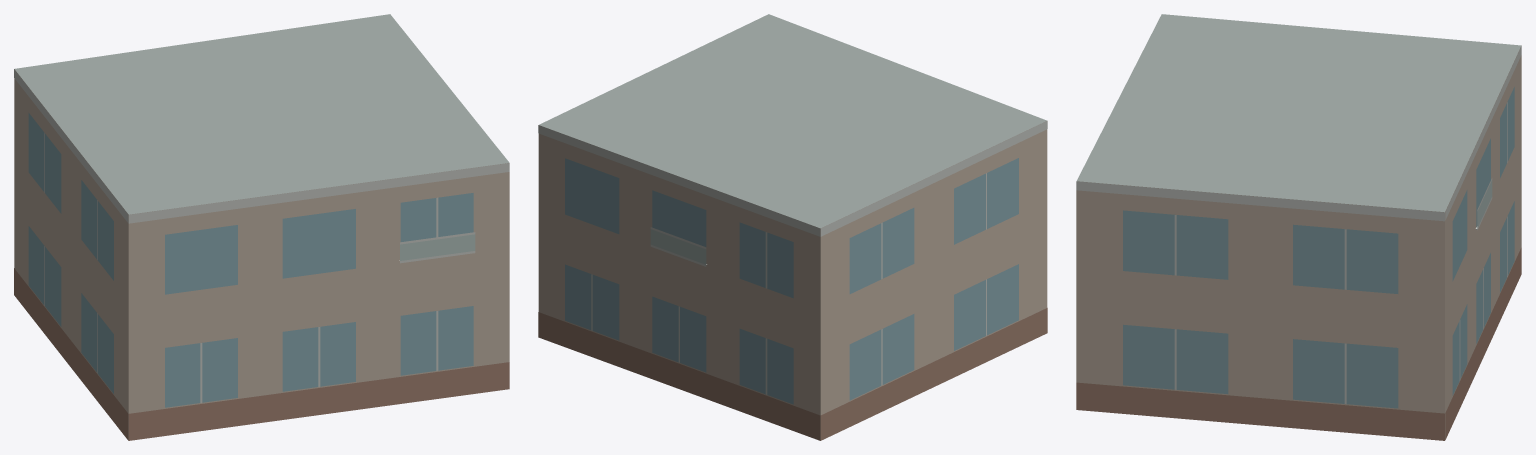
File: survey-upis-33016148.glb
3 renders of one model, left to right at view 1: azimuth 30°, elevation 25°; view 2: azimuth 150°, elevation 25°; view 3: azimuth 270°, elevation 25°, orthographic. The views are drawn at different scales.
Parts seen in each view (by area): view 1: survey-upis-33016148.tmp; view 2: survey-upis-33016148.tmp; view 3: survey-upis-33016148.tmp.
Boxes of the visible parts, <box> form: survey-upis-33016148.tmp: <box>14,14,509,440</box>; survey-upis-33016148.tmp: <box>538,14,1047,440</box>; survey-upis-33016148.tmp: <box>1076,14,1521,440</box>.
Size of the model in its own units: 11.35 by 6.1 by 10.77.
